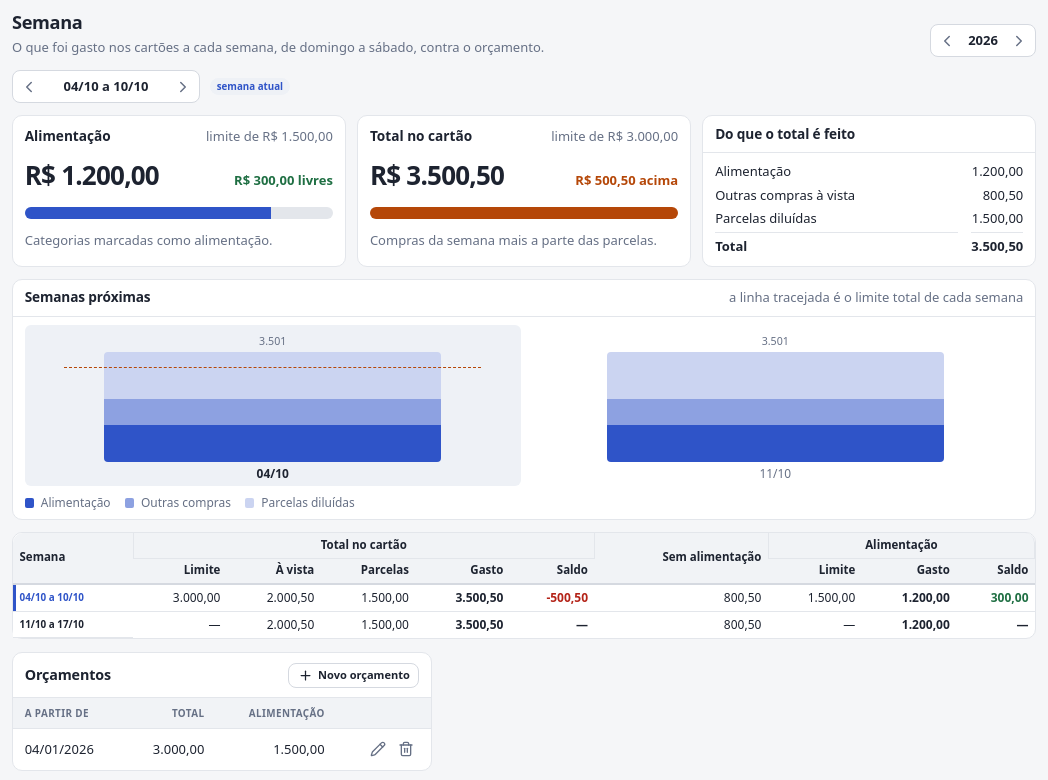
Scenario: WeeklyPlanPage › moves the focus to another week, which may have no limit yet
The image size is (1048, 780).
Expected: the element named "Semanas" is shown, [12,532,1036,639]
Click the button named "Próxima semana" at (183, 87), box [170,73,197,100]
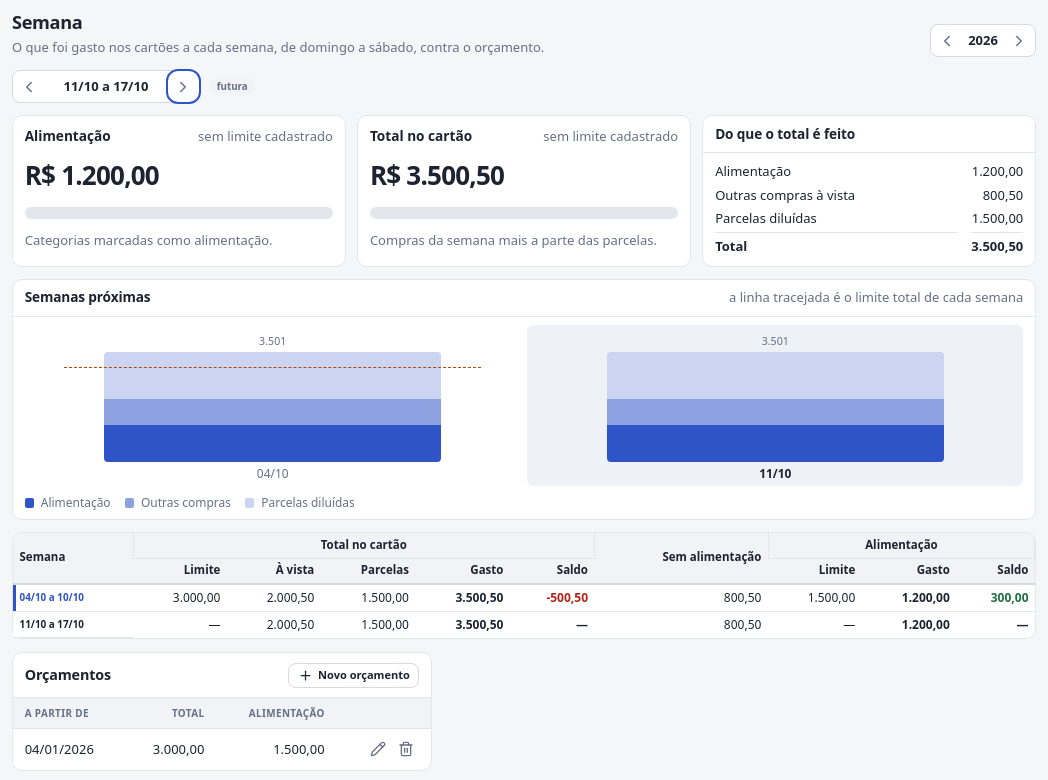
Expected: the text "11/10 a 17/10" is shown, [64,77,148,95]
Expected: the text "futura" is shown, [210,78,255,95]
Expected: the element "Alimentação" shows "sem limite cadastrado", [198,128,333,146]
Click the button named "Semana de 04/10 a 10/10" at (273, 405), box [25,324,521,486]
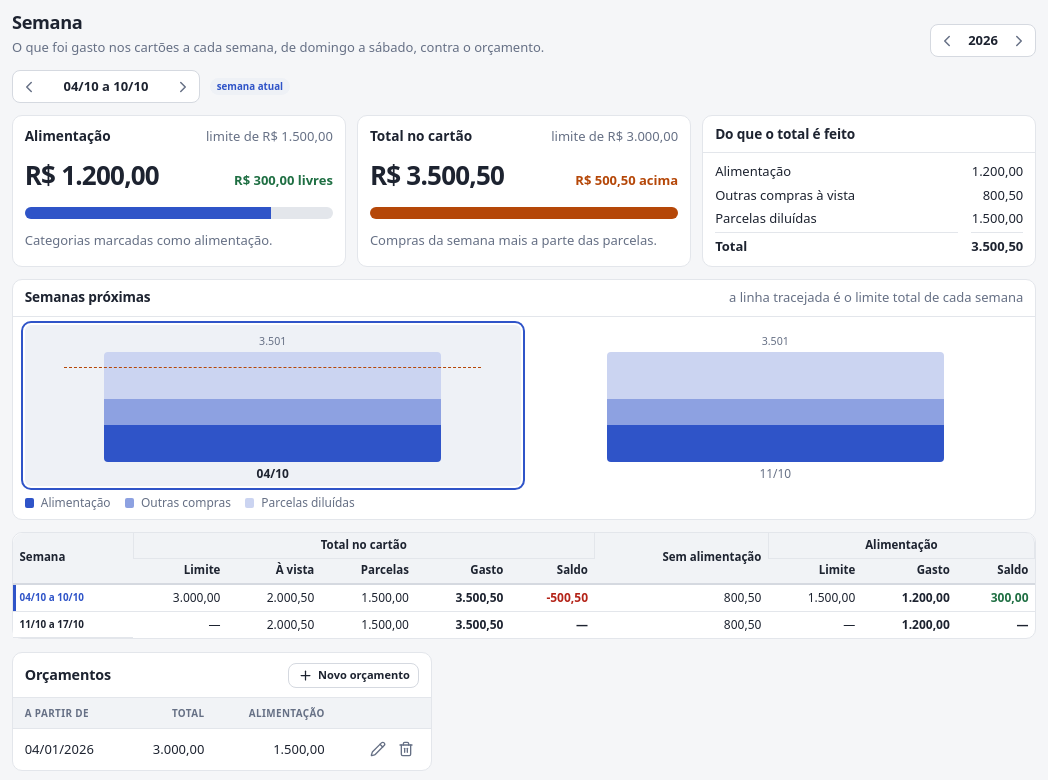
Expected: the text "semana atual" is shown, [210,78,290,95]
